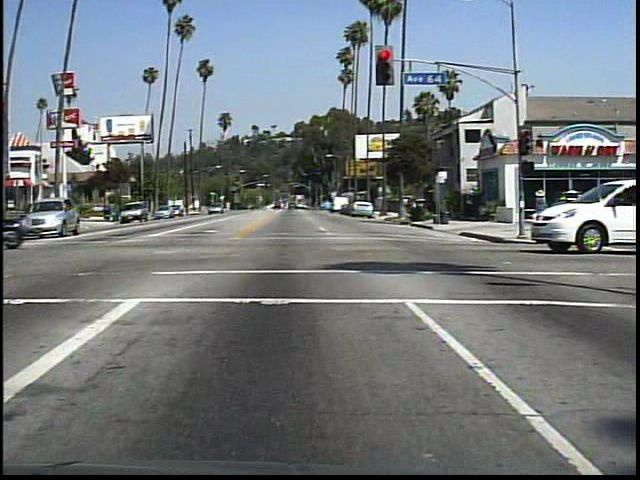person: (528, 186, 553, 215)
